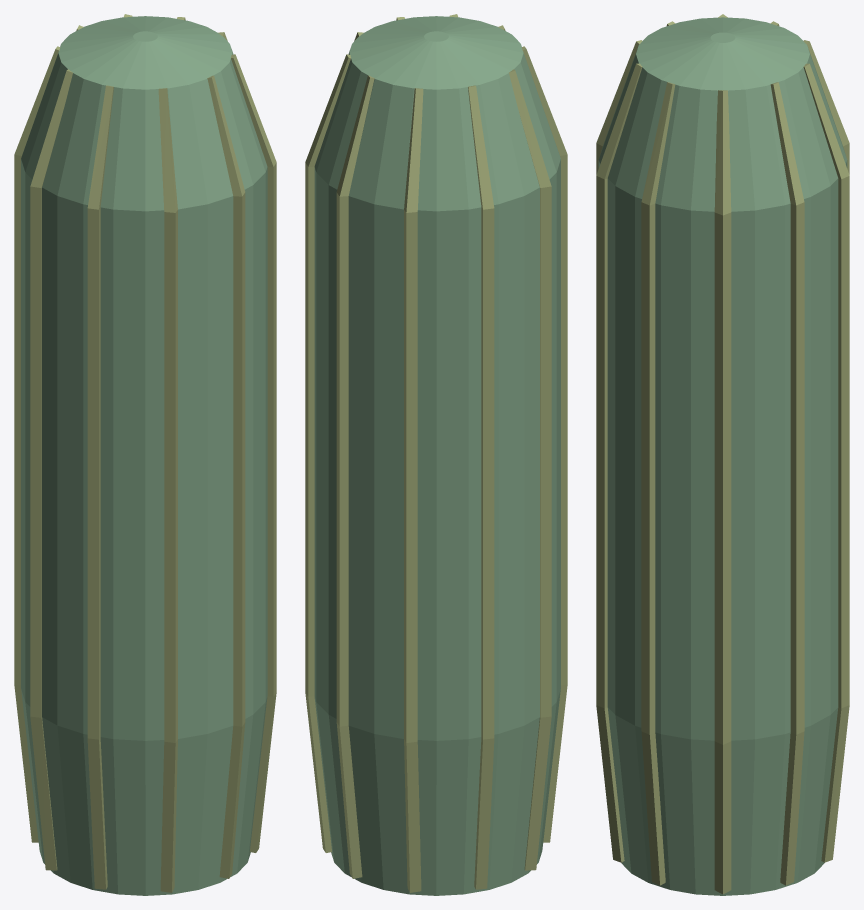
Rendered from desert-canyons-and-oases-young-columnar-cactus-d76b418f__20987.glb.
3 renders of one model, left to right at view 1: azimuth 30°, elevation 25°; view 2: azimuth 150°, elevation 25°; view 3: azimuth 270°, elevation 25°, orthographic.
Visible parts, largest first — view 1: young-columnar-cactus; view 2: young-columnar-cactus; view 3: young-columnar-cactus.
Part boxes in pixels (<box>): young-columnar-cactus: <box>14,14,276,895</box>; young-columnar-cactus: <box>305,14,567,895</box>; young-columnar-cactus: <box>596,14,849,895</box>.
Bounding box in the file's own units: 0.3846 × 1.3 × 0.3671.
